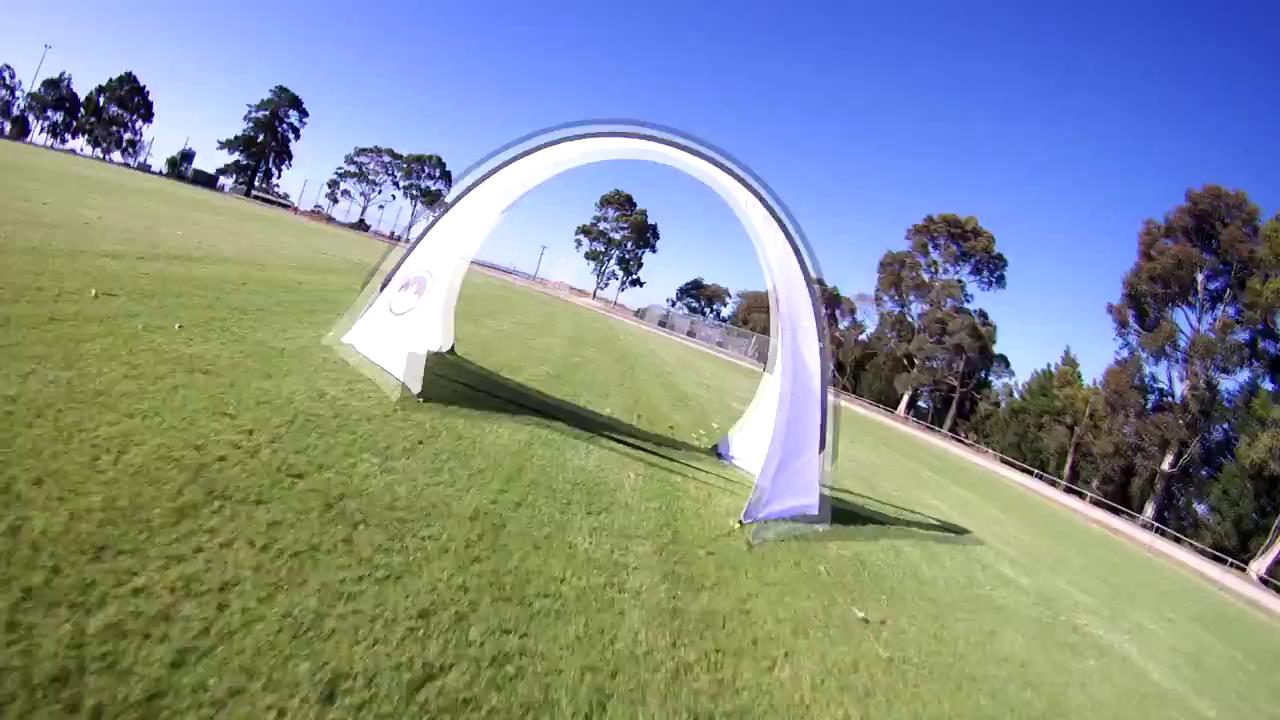gate: (340, 117, 839, 538)
